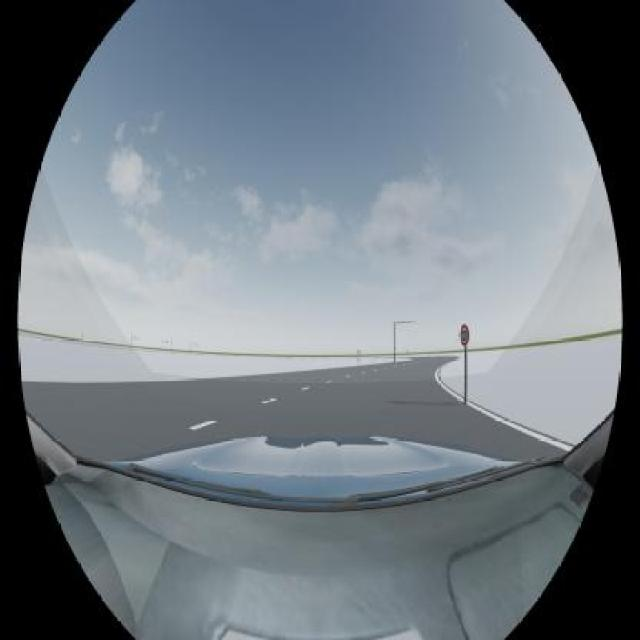forb_speed_over_120: (460, 324, 469, 345)
